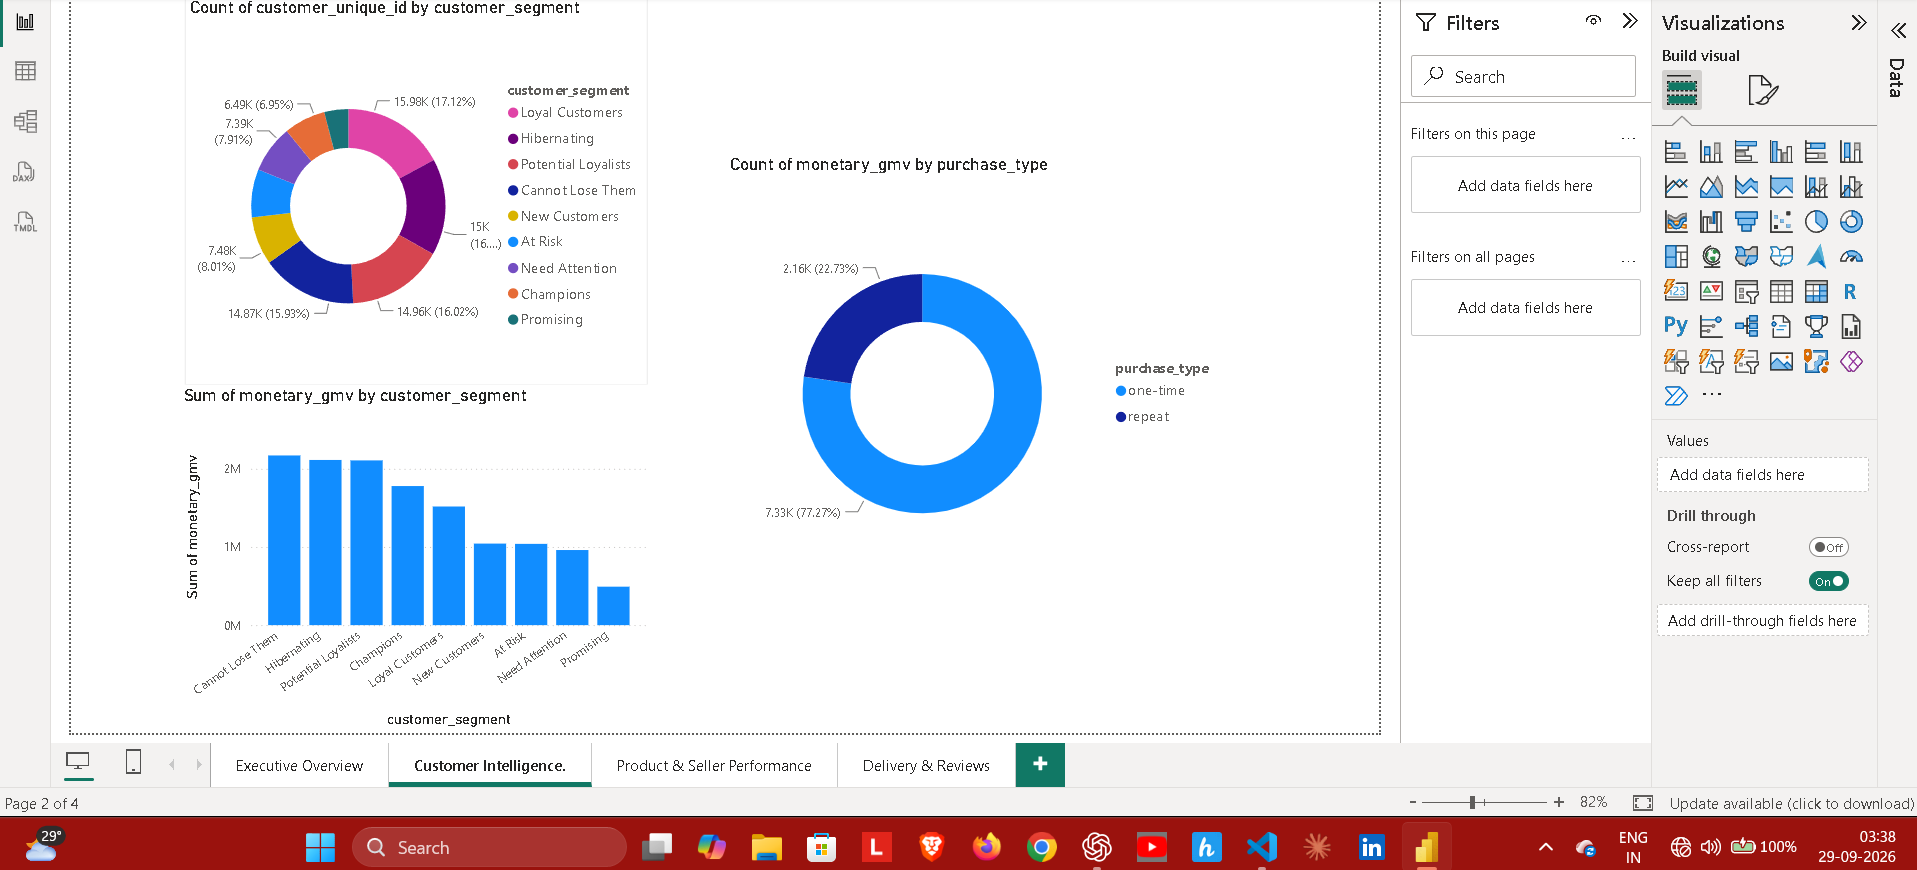

What the dashboard file says about the page in this screenshot:
{"tool":"powerbi","page":{"name":"Customer Intelligence.","canvas":[1280,720],"ordinal":1},"visuals":[{"type":"donutChart","fields":{"Category":["dim_customer.customer_segment"],"Y":["Count(dim_customer.customer_unique_id)"]},"box":[111.3,0,452.4,379.1],"z":0},{"type":"clusteredColumnChart","fields":{"Category":["dim_customer.customer_segment"],"Y":["Sum(dim_customer.monetary_gmv)"]},"box":[105.2,379.1,463.2,340.2],"z":1},{"type":"donutChart","fields":{"Category":["dim_customer.purchase_type"],"Y":["Count(dim_customer.monetary_gmv)"]},"box":[639.5,152.9,492.8,440.2],"z":2}]}

Visuals, with their boxes on the page's 1280x720 design canvas (x1, y1, x2, y2). These are canvas units, not pixel positions in the 1917x870 screenshot, which may show the page scaled, cropped or inside an application window:
donutChart - dim_customer.customer_segment x Count(dim_customer.customer_unique_id): box=[111, 0, 564, 379]
clusteredColumnChart - dim_customer.customer_segment x Sum(dim_customer.monetary_gmv): box=[105, 379, 568, 719]
donutChart - dim_customer.purchase_type x Count(dim_customer.monetary_gmv): box=[640, 153, 1132, 593]
